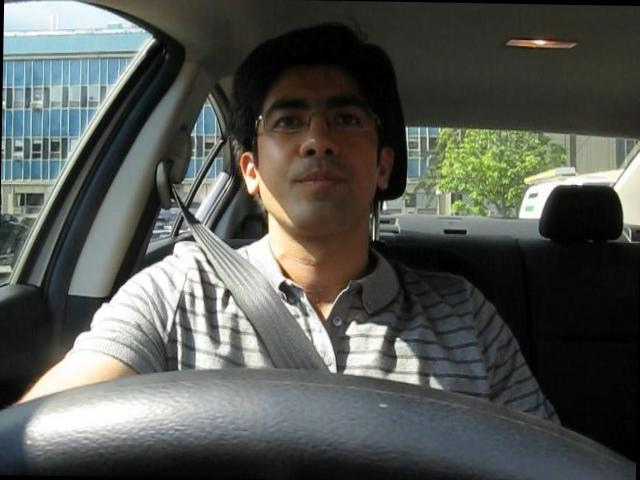eye_open: (268, 113, 310, 136), (326, 108, 366, 131)
face: (257, 68, 380, 236)
